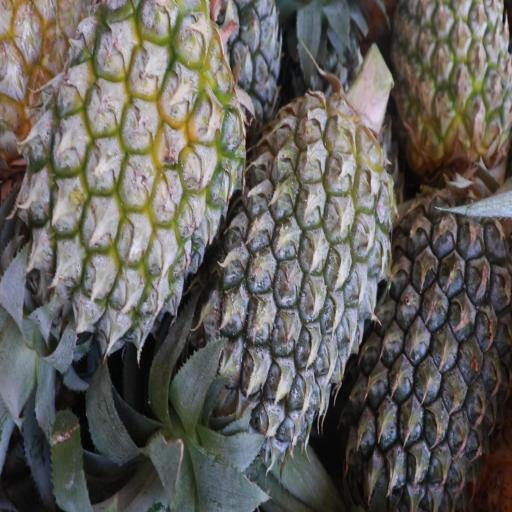------------------------------: (32, 0, 236, 332), (399, 0, 511, 183)
